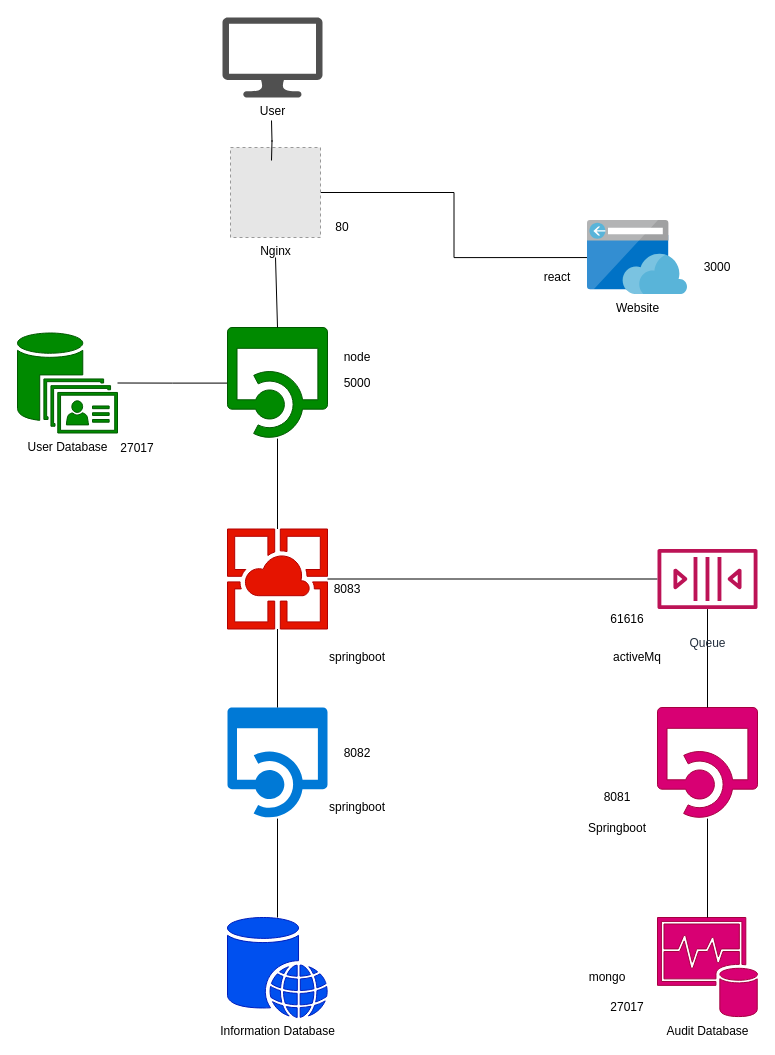
Image size: 775x1055. Some labels were removed from this diagram. Grey dashed boxes stand in for pictures. Each missing label, with the centre of its shape:
"Audit API" goes at [707,762].
"Core API" goes at [277,578].
"Search API" goes at [277,762].
"User API" goes at [277,382].
